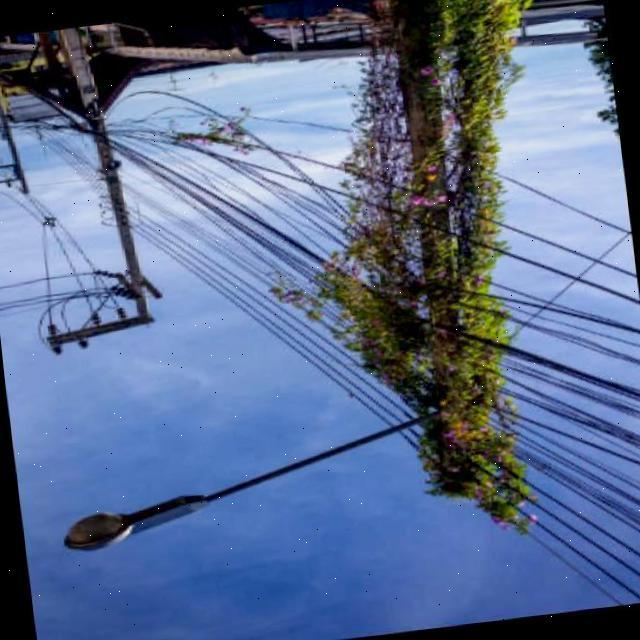critical vegetation: (309, 0, 568, 557)
